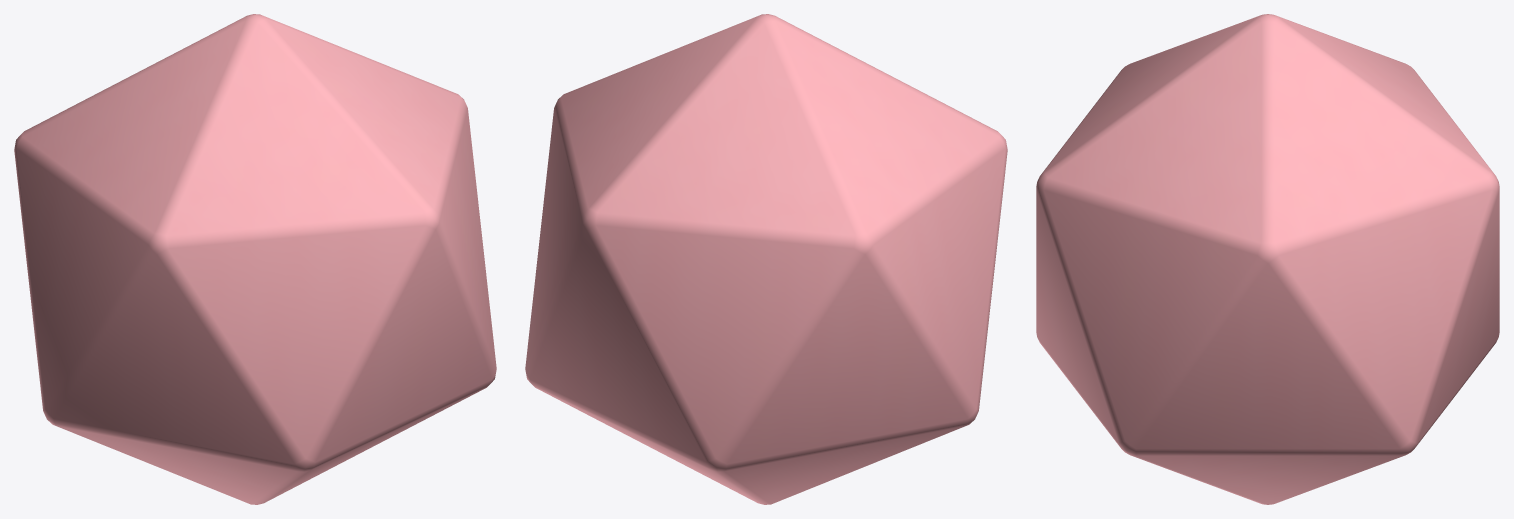
The model's file is D20Big_2.fbx.
3 renders of one model, left to right at view 1: azimuth 30°, elevation 25°; view 2: azimuth 150°, elevation 25°; view 3: azimuth 270°, elevation 25°, orthographic.
Visible parts, largest first — view 1: Icosphere.008; view 2: Icosphere.008; view 3: Icosphere.008.
Boxes of the visible parts, x1=… form: Icosphere.008: x1=14, y1=14, x2=496, y2=504; Icosphere.008: x1=525, y1=14, x2=1007, y2=504; Icosphere.008: x1=1036, y1=14, x2=1499, y2=504.
Bounding box in the file's own units: 354 × 393 × 338.
